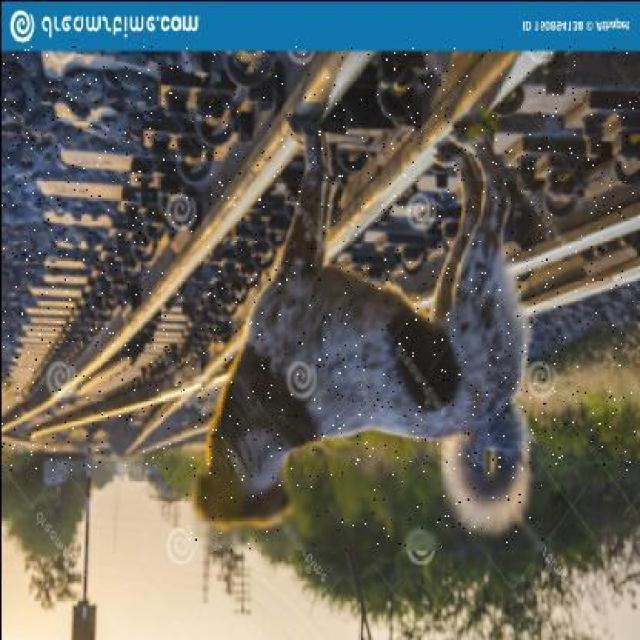rail: (1, 46, 636, 470)
